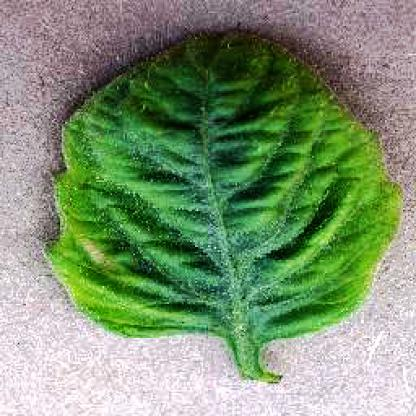Virus: (37, 27, 403, 388)
